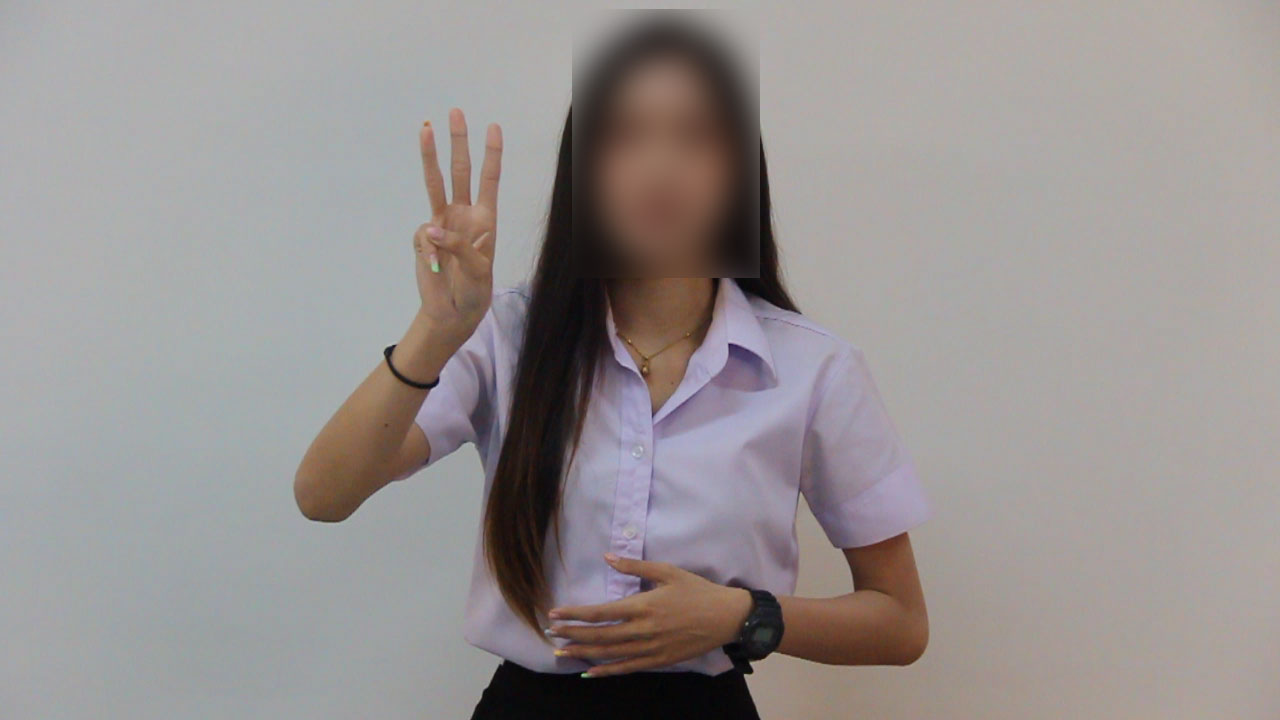wor: (400, 104, 515, 336)
